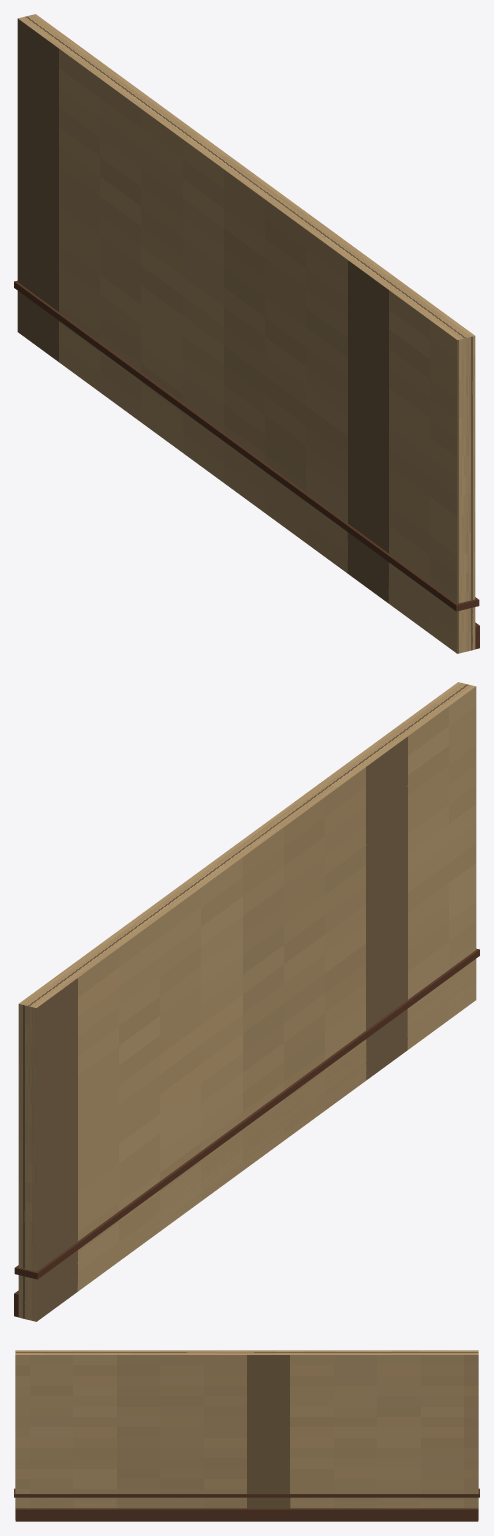
File: wall_w.glb
3 renders of one model, top to bottom at view 1: azimuth 30°, elevation 25°; view 2: azimuth 150°, elevation 25°; view 3: azimuth 270°, elevation 25°, orthographic. The views are drawn at different scales.
Visible parts, largest first — view 1: Box1, Box3, Box4; view 2: Box1, Box3, Box4; view 3: Box1, Box2, Box3, Box4.
Part boxes in pixels (x1,y1,x2,y2): Box1: (17,14,475,653); Box3: (17,292,475,652); Box4: (14,280,479,611); Box1: (18,682,476,1321); Box3: (18,959,476,1320); Box4: (14,948,479,1279); Box1: (15,1350,478,1519); Box2: (15,1508,478,1521); Box3: (15,1497,478,1519); Box4: (14,1488,479,1497).
Bounding box in the file's own units: 0.21 × 2.5 × 6.39.
2 materials, 1 textured.
